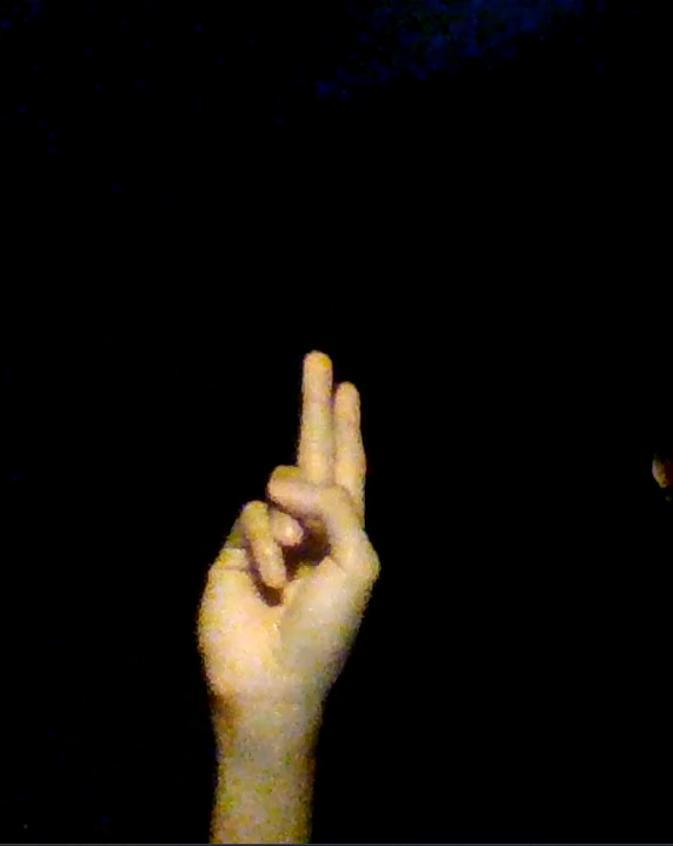u: (194, 349, 379, 709)
